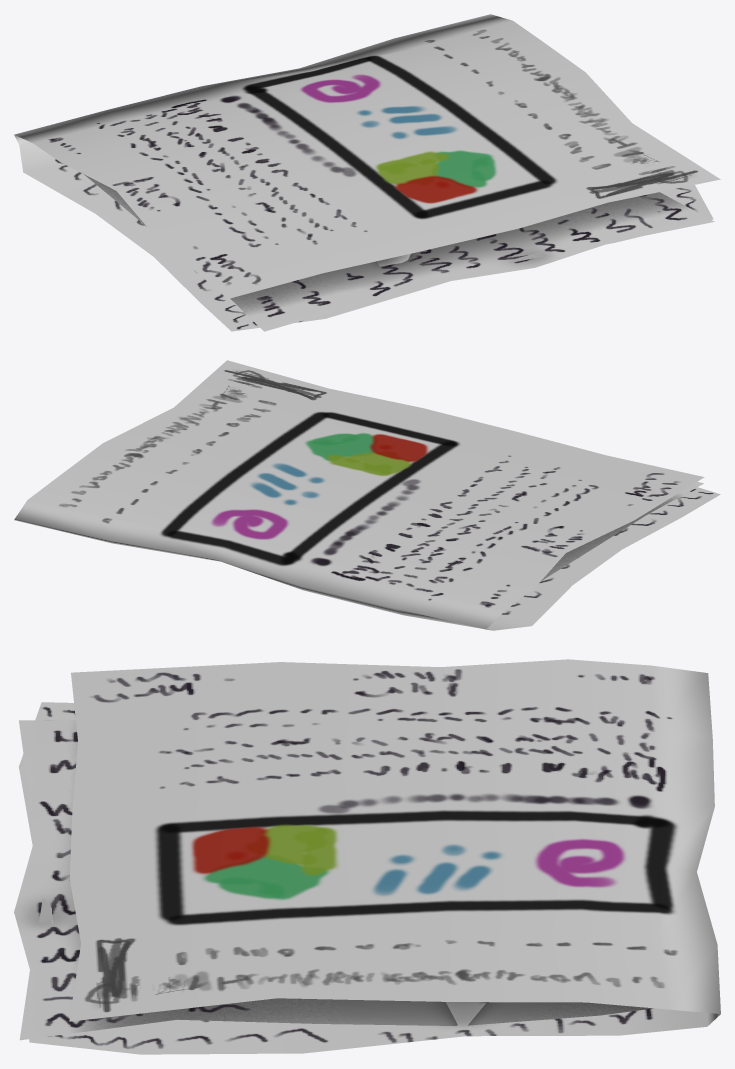
Rendered from Paper.fbx.
3 renders of one model, top to bottom at view 1: azimuth 30°, elevation 25°; view 2: azimuth 150°, elevation 25°; view 3: azimuth 270°, elevation 25°, orthographic. The views are drawn at different scales.
Visible parts, largest first — view 1: Paper; view 2: Paper; view 3: Paper.
Boxes of the visible parts, x1,y1,x2,y2 form: Paper: (14,14,720,331); Paper: (14,360,720,630); Paper: (14,659,720,1054).
Bounding box in the file's own units: 197 × 13.91 × 163.
